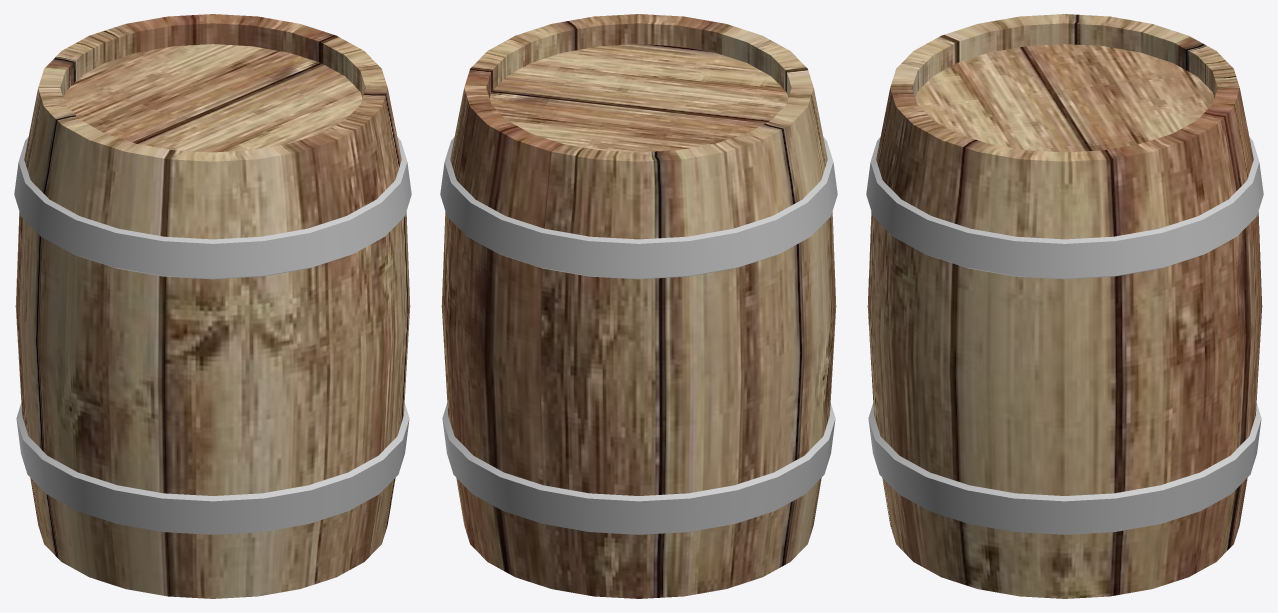
File: Tonneau3.FBX
3 views of the same model, side by side, from view 1: azimuth 30°, elevation 25°; view 2: azimuth 150°, elevation 25°; view 3: azimuth 270°, elevation 25° (orthographic).
Visible parts, largest first — view 1: tonneau; view 2: tonneau; view 3: tonneau.
Boxes of the visible parts, box(x1,y1,x2,y2) form: tonneau: box(14, 14, 411, 598); tonneau: box(440, 14, 837, 598); tonneau: box(866, 14, 1263, 598).
Size of the model in its own units: 1.64 by 1.99 by 1.64.
